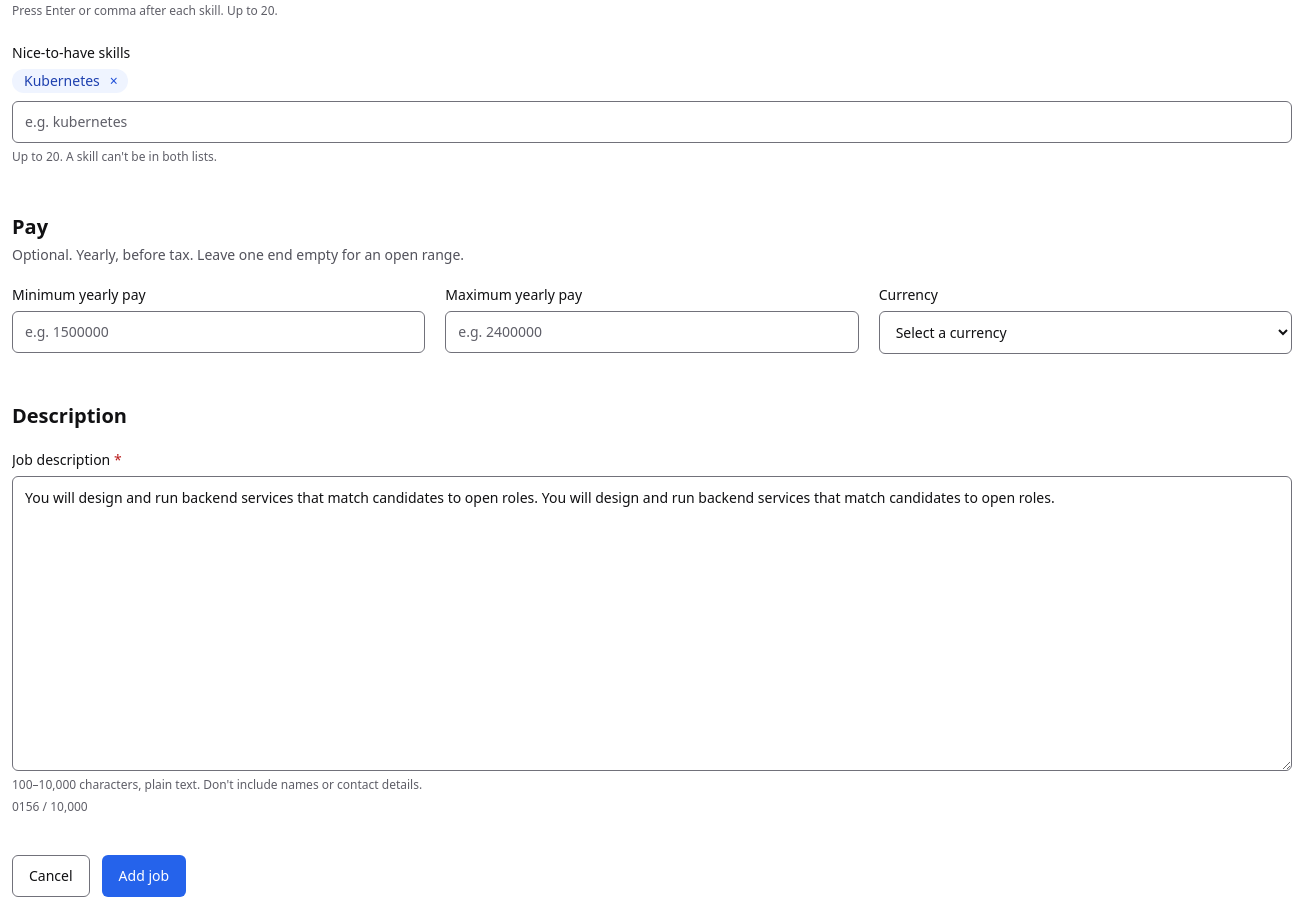
it: JobForm › maps server validation errors onto fields
The image size is (1304, 897).
(page scrolled)
Click the button "Add job". click: (144, 876)
box: [102,855,186,896]
(page scrolled)
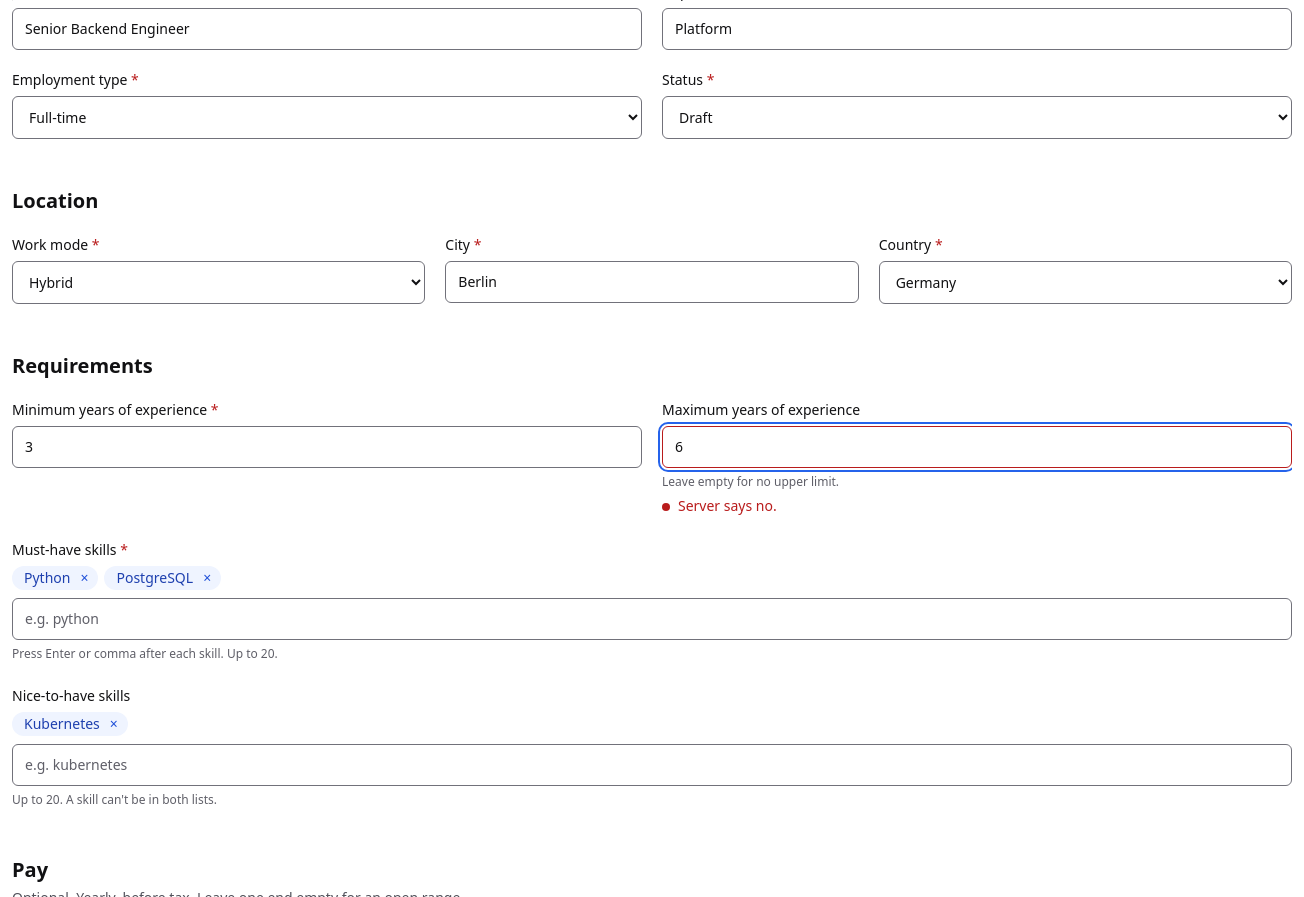
Check: the text "Server says no." is shown, box [678,496,777,516]
